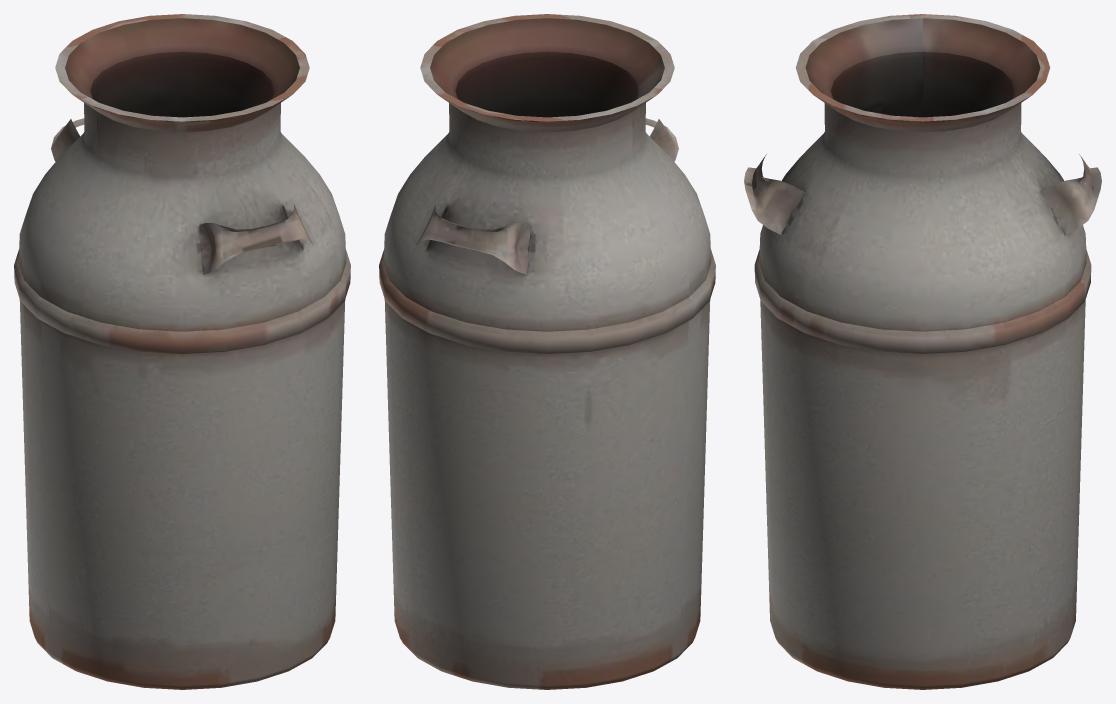
3 renders of one model, left to right at view 1: azimuth 30°, elevation 25°; view 2: azimuth 150°, elevation 25°; view 3: azimuth 270°, elevation 25°, orthographic.
Visible parts, largest first — view 1: body0_model0_lod0_mesh0; view 2: body0_model0_lod0_mesh0; view 3: body0_model0_lod0_mesh0.
Part boxes in pixels (x1,y1,x2,y2): body0_model0_lod0_mesh0: (14,14,350,689); body0_model0_lod0_mesh0: (379,14,715,689); body0_model0_lod0_mesh0: (744,14,1101,689).
Size of the model in its own units: 26.65 by 49 by 28.33.
Materials: 1 (1 with a texture image).
